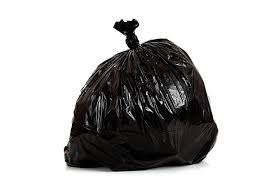Trash: (56, 12, 222, 173)
